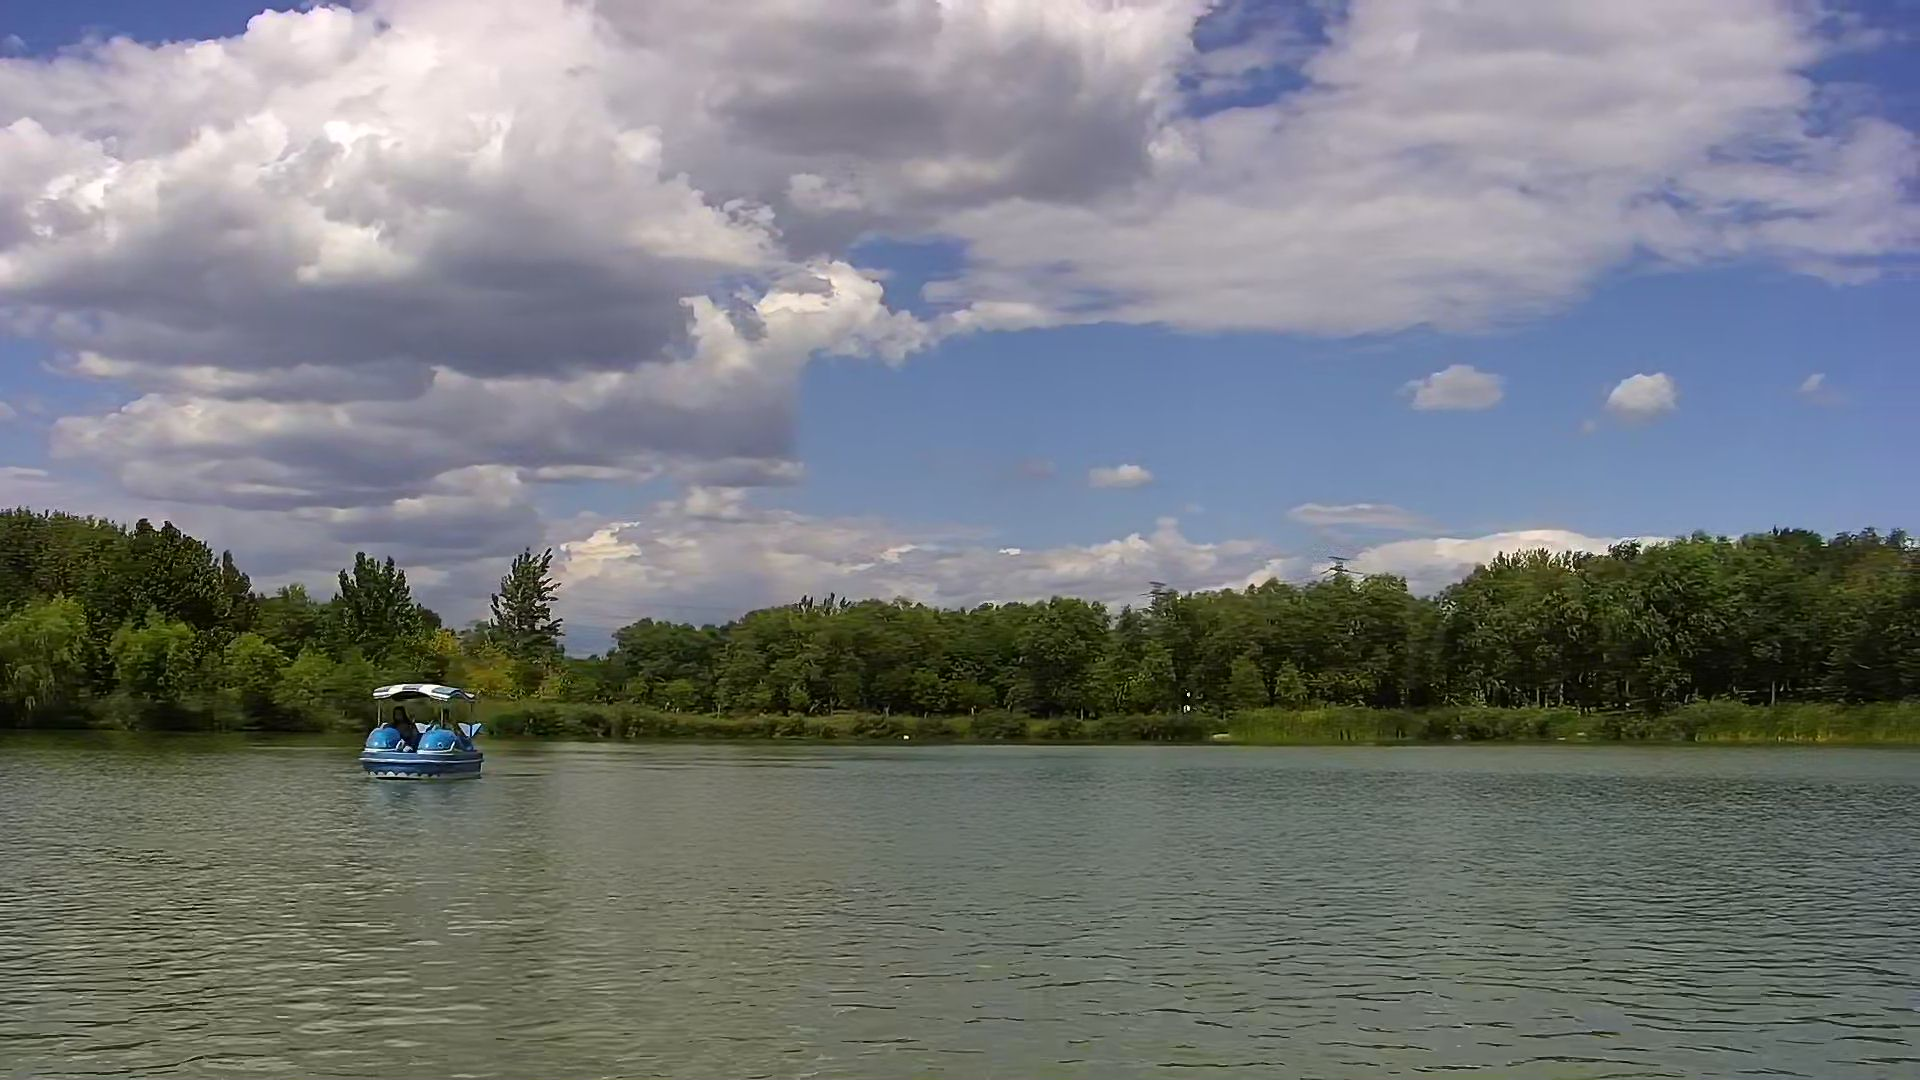boat: (357, 680, 480, 785)
